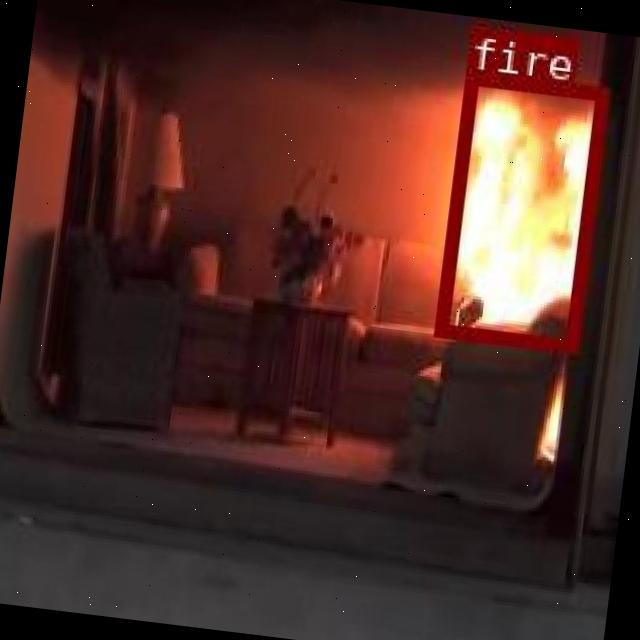fire: (432, 68, 608, 348)
